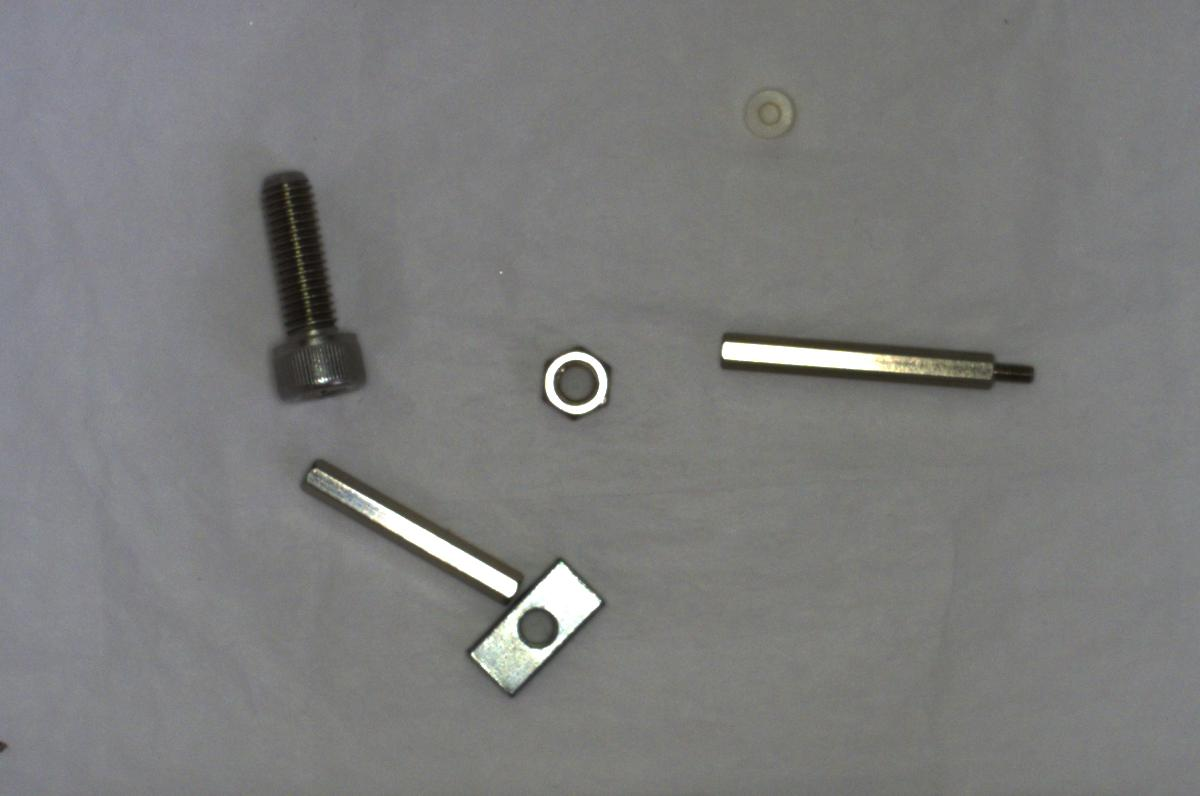Double hexagonal column: (297, 454, 521, 601)
Hexagon nut: (527, 338, 624, 422)
Hexagon screw: (250, 162, 374, 410)
Hexagonal steel column: (711, 327, 1040, 393)
Plastic cushion pillar: (730, 81, 801, 148)
Rectangular nut: (468, 552, 613, 703)
